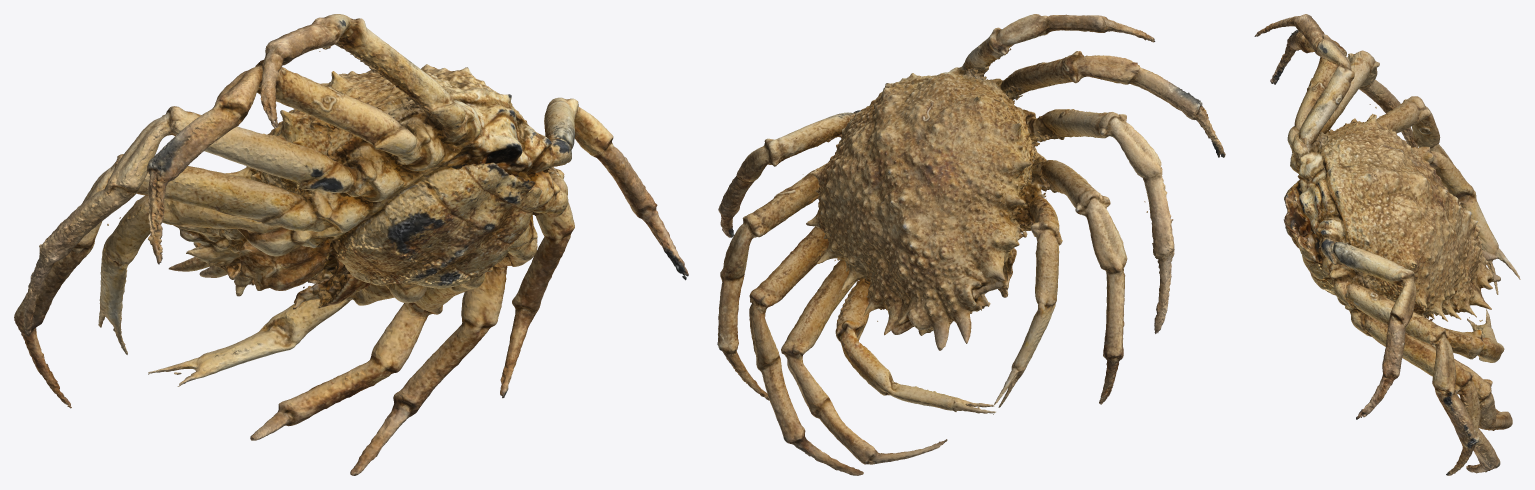
File: MZUR3D-007.glb
The picture shows the model from 3 angles, left to right: view 1: azimuth 30°, elevation 25°; view 2: azimuth 150°, elevation 25°; view 3: azimuth 270°, elevation 25°; orthographic projection. The views are drawn at different scales.
Parts seen in each view (by area): view 1: MZUR3D-007; view 2: MZUR3D-007; view 3: MZUR3D-007.
Part boxes in pixels (x1,y1,x2,y2): MZUR3D-007: (14, 14, 688, 475); MZUR3D-007: (717, 14, 1225, 475); MZUR3D-007: (1254, 14, 1520, 475).
Bounding box in the file's own units: 5.52 × 4.84 × 3.
Materials: 1 (1 with a texture image).
